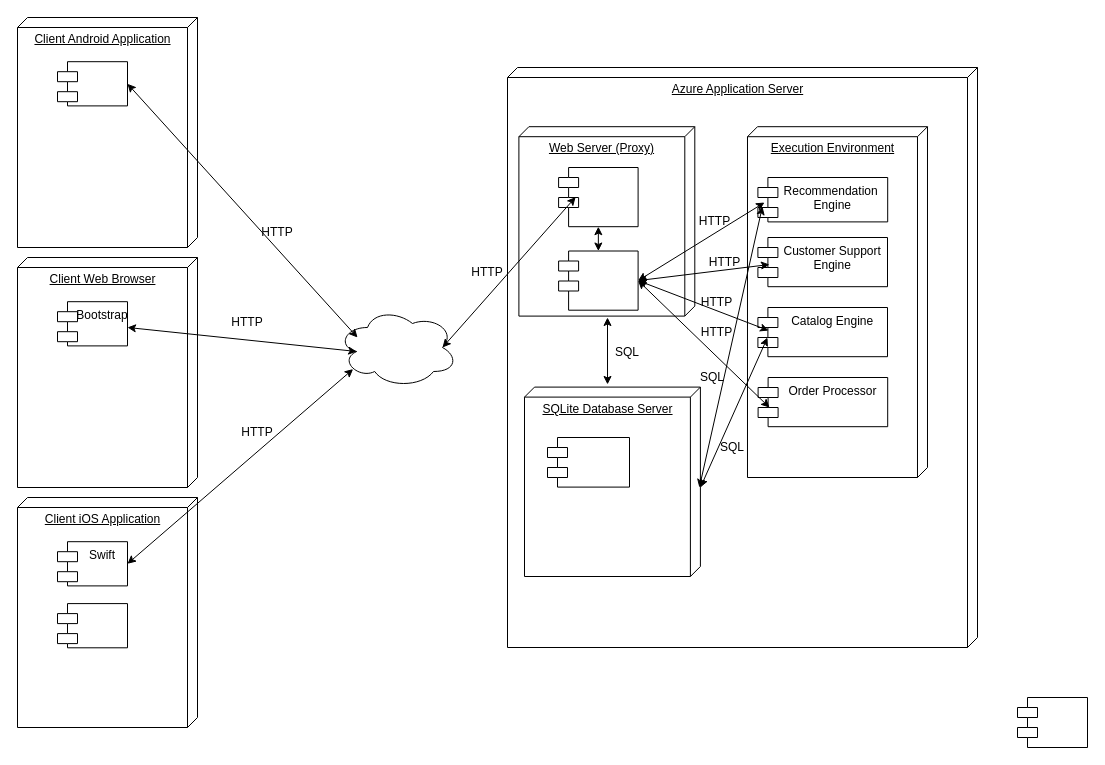
Image size: 1105x765. Some labels were removed from this diagram. The shapes that lost their labels are listed below. From the top down, each one's centre as x and y in pixels, then its label:
At [92,83]: "Kotlin".
At [598,196]: "PHP Web Pages".
At [598,280]: "PHP Agents".
At [397,347]: "Internet".
At [588,461]: "Relational Tables".
At [92,625]: "SwiftUI".
At [1052,722]: "Module".
